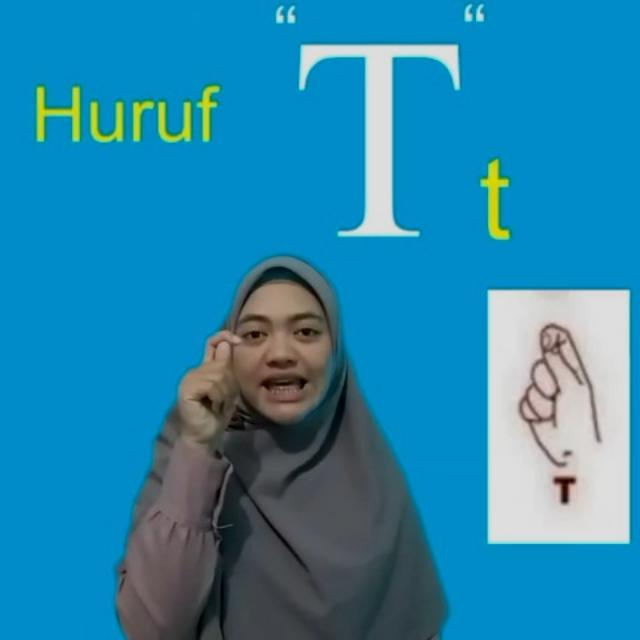T: (174, 328, 246, 444)
